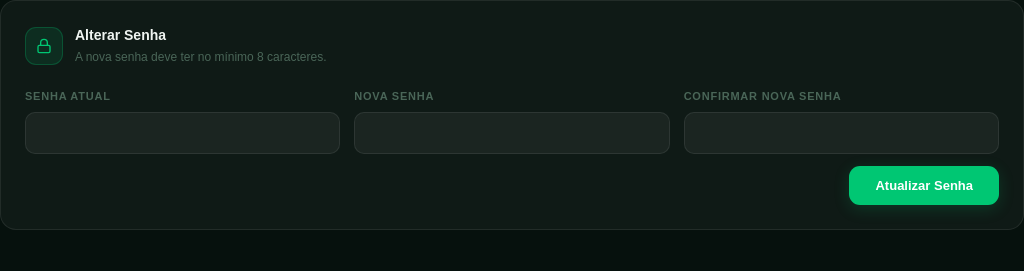
SecurityPasswordForm › confirmação divergente é bloqueada localmente, sem enviar requisição
Type "old-pass" into the password field labelled "Senha Atual" at (183, 133), box x1=25 y1=112 x2=340 y2=154
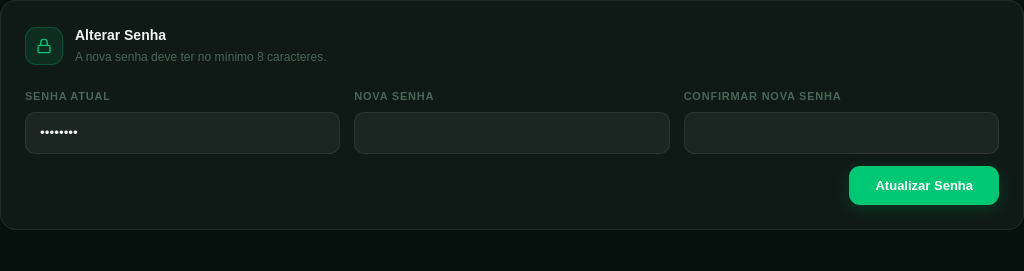
Type "NovaSenhaForte@123" into the password field labelled "Nova Senha" at (512, 133), box x1=354 y1=112 x2=670 y2=154
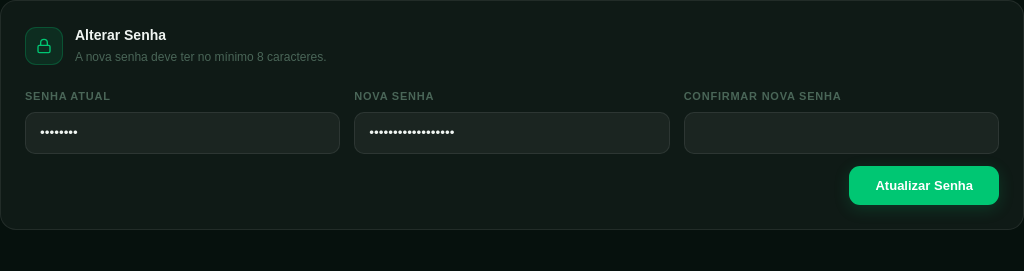
Type "OutraSenha@456" into the password field labelled "Confirmar Nova Senha" at (841, 133), box x1=684 y1=112 x2=999 y2=154
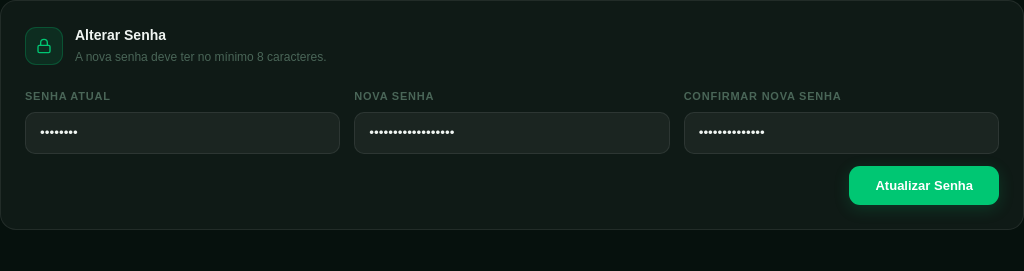
Click the button "Atualizar Senha" at (924, 186), box x1=850 y1=166 x2=999 y2=205
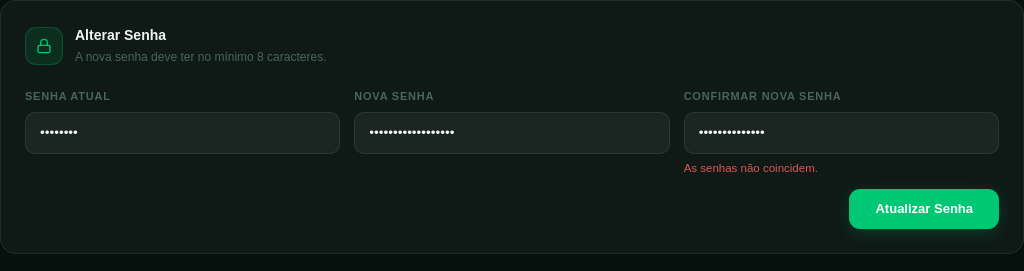
expect the message "As senhas não coincidem." is shown: met, box x1=684 y1=162 x2=818 y2=174
